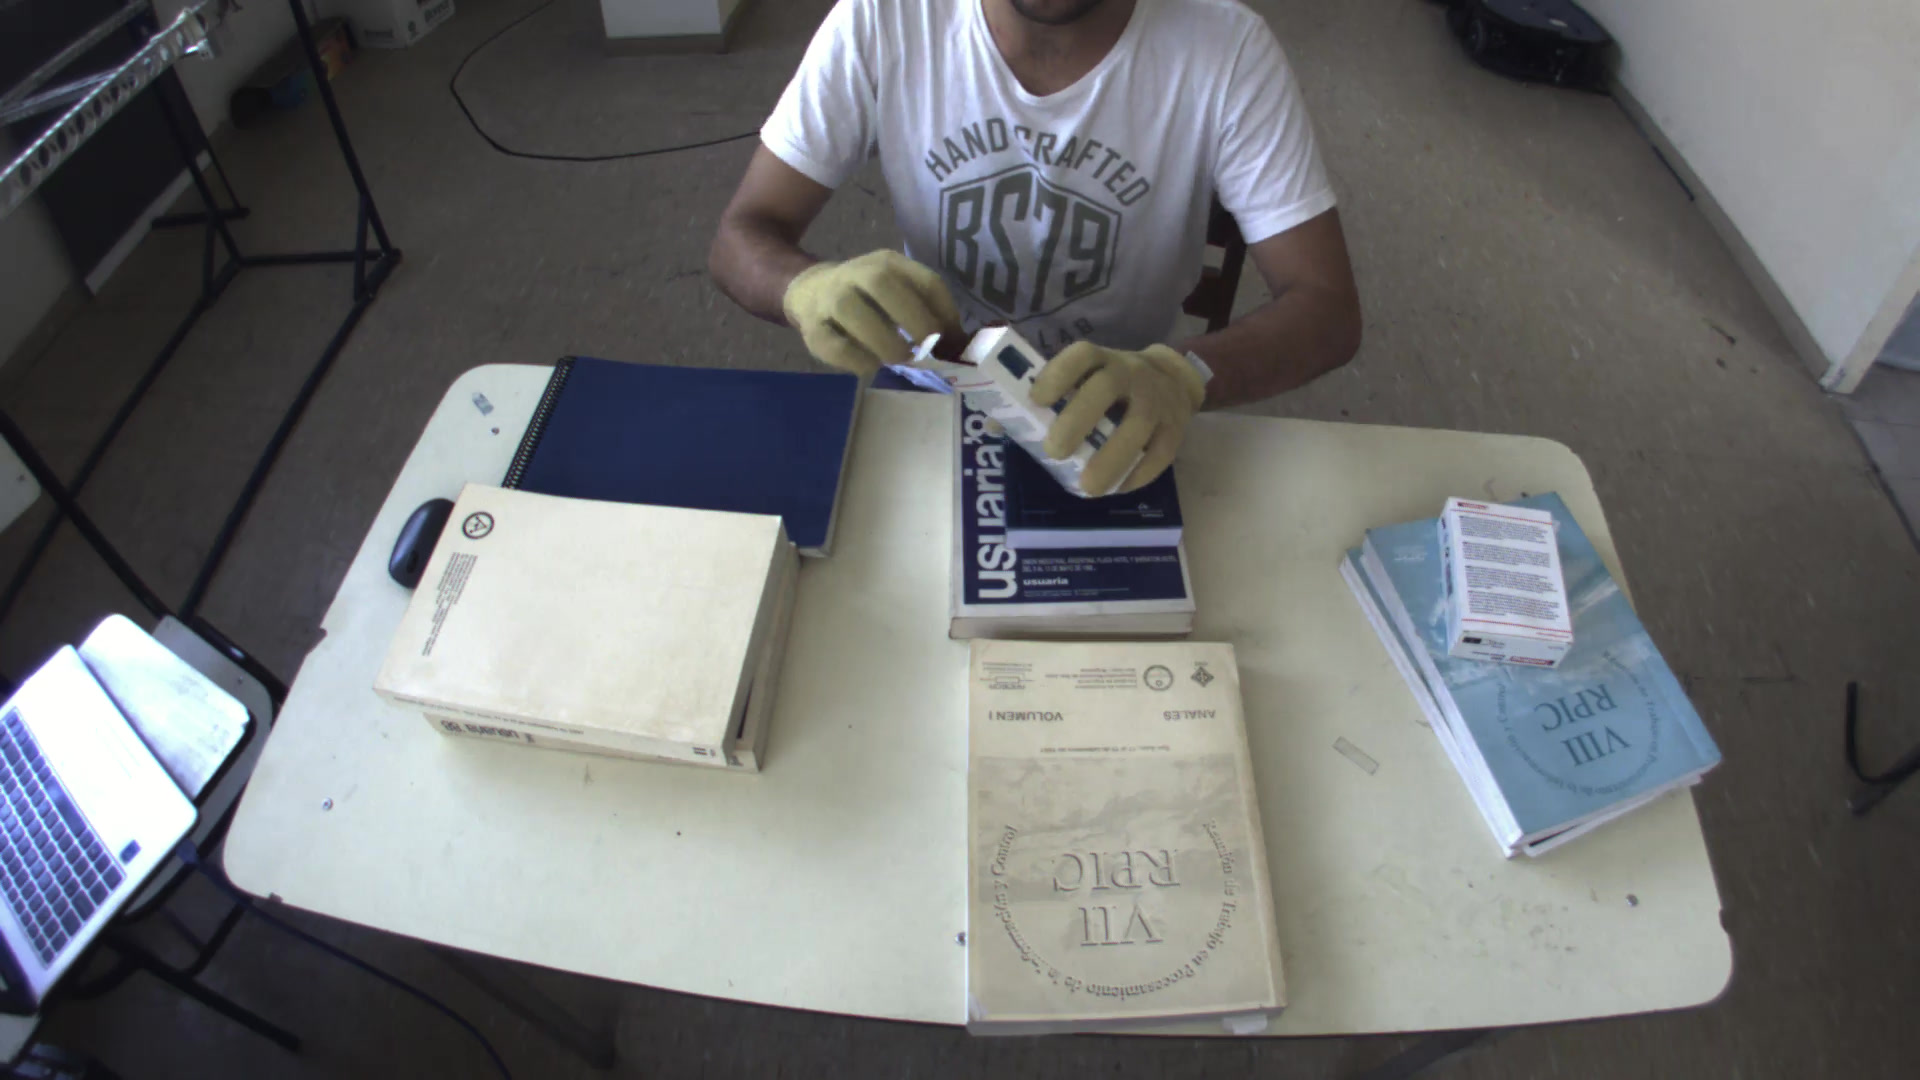hand: (1022, 319, 1225, 502), (775, 235, 969, 382)
